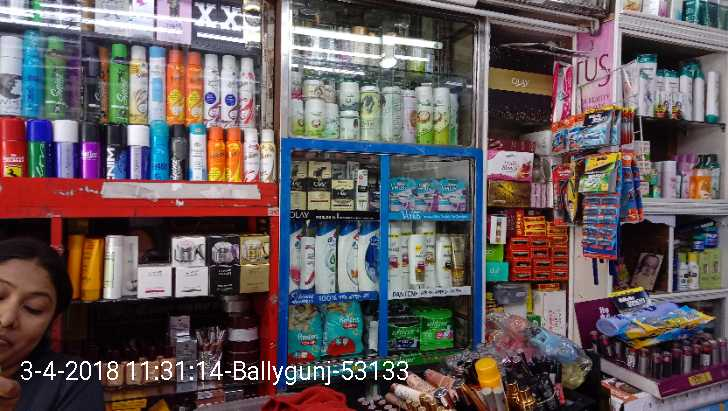gillete: (625, 307, 711, 345), (583, 196, 614, 256), (552, 165, 576, 225), (580, 153, 615, 192), (582, 103, 614, 144), (624, 155, 640, 217), (617, 287, 650, 311)
venus: (441, 179, 467, 211), (390, 177, 414, 211), (416, 178, 439, 211)
